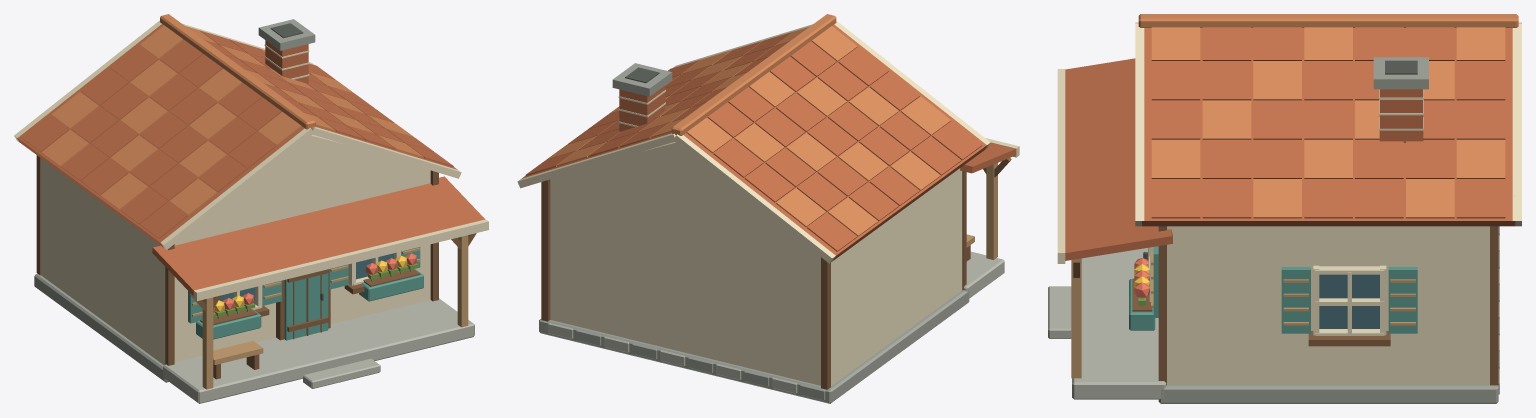
Rendered from farm_house_upgrade.glb.
The picture shows the model from 3 angles, left to right: view 1: azimuth 30°, elevation 25°; view 2: azimuth 150°, elevation 25°; view 3: azimuth 270°, elevation 25°; orthographic projection. The views are drawn at different scales.
Visible parts, largest first — view 1: House closed walls.001, Solid porch terracotta canopy, Porch stone deck, Closed plaster gables, Porch front fascia, Solid clay roof slope.002, Roof ridge cap.001, Closed welcoming door.001, Ground foundation.001, Gable oak fascia.004, Gable oak fascia.005, Broad entrance step.001 (+47 smaller); view 2: House closed walls.001, Closed plaster gables, Ground foundation.001, Solid clay roof slope.002, Roof ridge cap.001, Gable oak fascia.006, Gable oak fascia.007, Corner timber.007, Brick chimney, Corner timber.005, Porch stone deck, Porch oak post (+39 smaller); view 3: House closed walls.001, Solid porch terracotta canopy, Porch stone deck, Solid clay roof slope.003, Ground foundation.001, Roof ridge cap.001, Inset blue window.005, Brick chimney, Clay tile course.119, Clay tile course.120, Clay tile course.125, Clay tile course.112 (+50 smaller).
Part boxes in pixels (box(x1,y1,x2,y2)): House closed walls.001: box(41, 158, 430, 364); Solid porch terracotta canopy: box(152, 176, 484, 295); Porch stone deck: box(163, 298, 474, 403); Closed plaster gables: box(197, 135, 428, 226); Porch front fascia: box(193, 219, 488, 301); Solid clay roof slope.002: box(17, 24, 304, 247); Roof ridge cap.001: box(160, 14, 315, 129); Closed welcoming door.001: box(284, 273, 328, 340); Ground foundation.001: box(34, 273, 168, 382); Gable oak fascia.004: box(160, 128, 313, 249); Gable oak fascia.005: box(311, 127, 461, 178); Broad entrance step.001: box(303, 358, 380, 388); House closed walls.001: box(550, 168, 962, 385); Closed plaster gables: box(552, 141, 797, 238); Ground foundation.001: box(539, 290, 969, 403); Solid clay roof slope.002: box(683, 24, 987, 261); Roof ridge cap.001: box(671, 14, 836, 135); Gable oak fascia.006: box(673, 134, 835, 263); Gable oak fascia.007: box(517, 133, 675, 188); Corner timber.007: box(541, 179, 550, 321); Brick chimney: box(619, 85, 665, 131); Corner timber.005: box(821, 257, 830, 389); Porch stone deck: box(963, 251, 1004, 298); Porch oak post: box(986, 163, 997, 259); House closed walls.001: box(1167, 226, 1489, 384); Solid porch terracotta canopy: box(1065, 58, 1172, 260); Porch stone deck: box(1072, 248, 1166, 399); Solid clay roof slope.003: box(1142, 28, 1515, 226); Ground foundation.001: box(1158, 385, 1498, 403); Roof ridge cap.001: box(1138, 14, 1518, 27); Inset blue window.005: box(1319, 274, 1379, 328); Brick chimney: box(1379, 89, 1423, 142); Clay tile course.119: box(1151, 100, 1200, 139); Clay tile course.120: box(1202, 100, 1251, 139); Clay tile course.125: box(1456, 100, 1505, 139); Clay tile course.112: box(1151, 61, 1200, 100).
Bounding box in the file's own units: 7.34 × 5.48 × 7.81.
